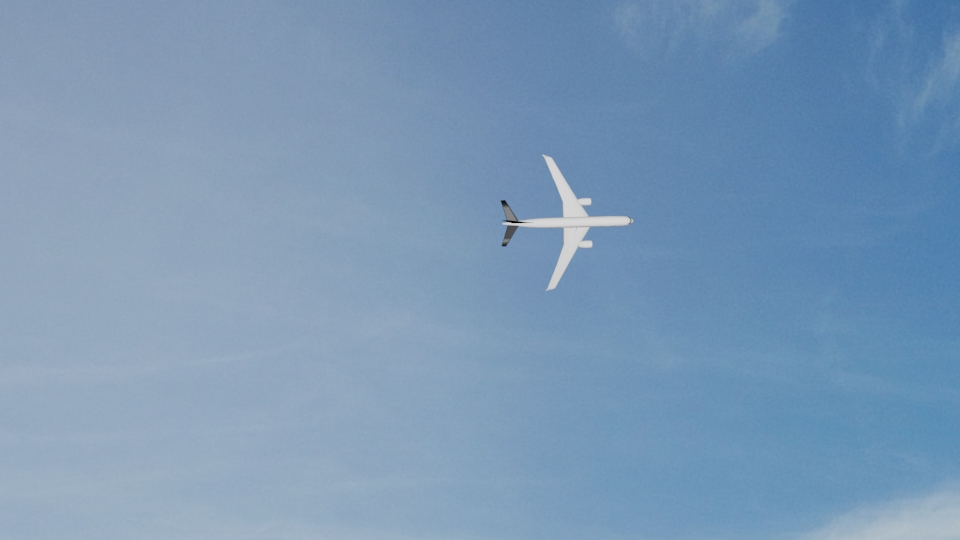plane: (497, 152, 633, 292)
